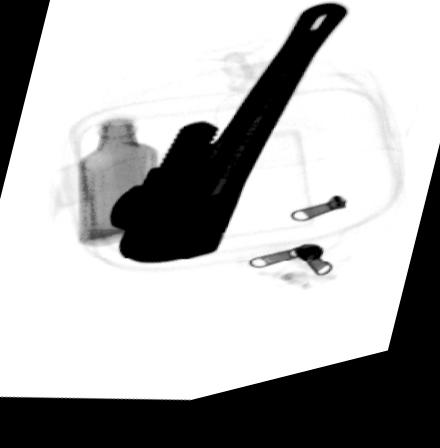Wrench: (107, 18, 349, 272)
